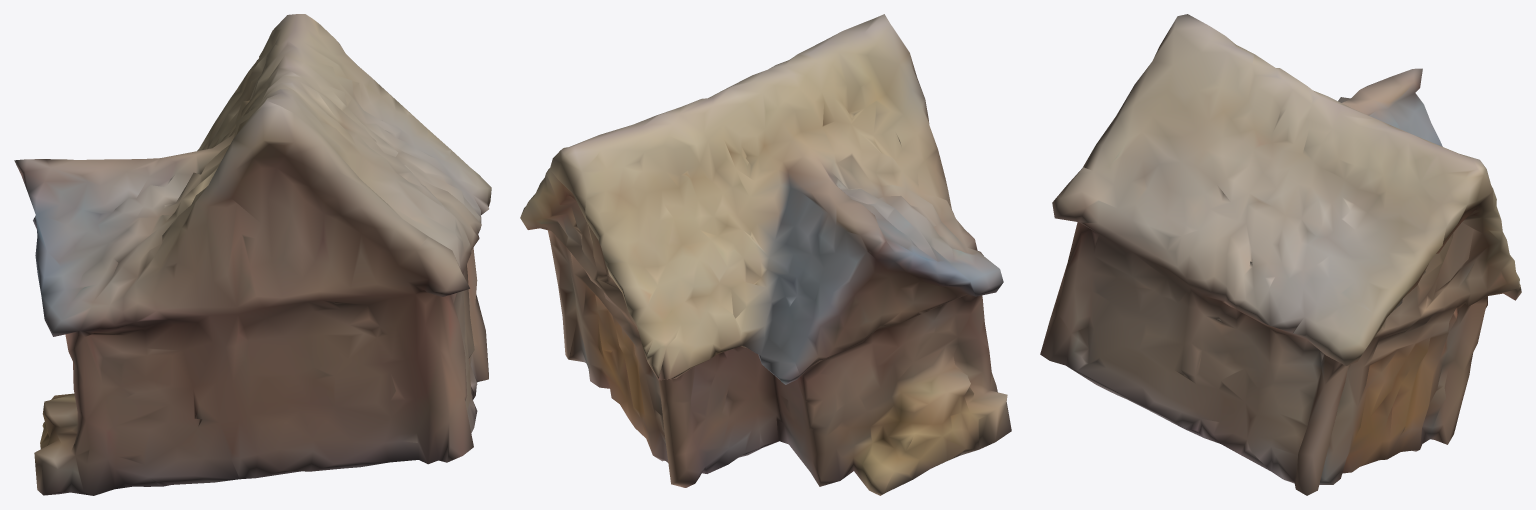
Rendered from celeiro.glb.
The picture shows the model from 3 angles, left to right: view 1: azimuth 30°, elevation 25°; view 2: azimuth 150°, elevation 25°; view 3: azimuth 270°, elevation 25°; orthographic projection. The views are drawn at different scales.
Size of the model in its own units: 1.05 by 0.8881 by 0.9845.
